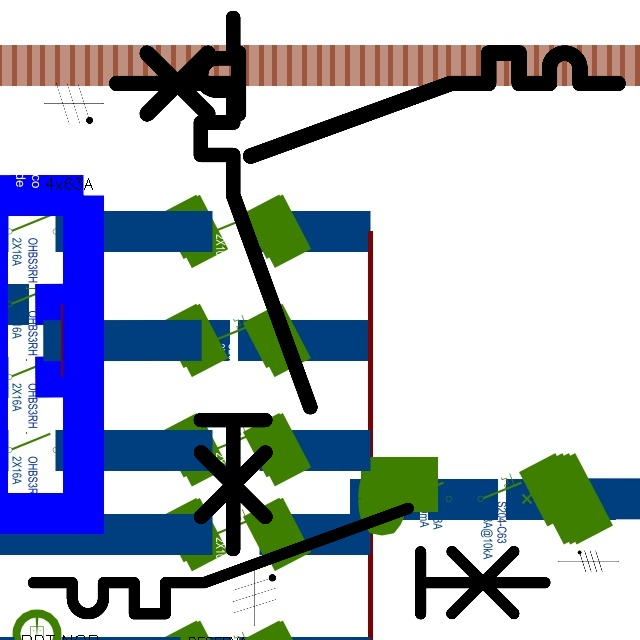interruptor_termomagnetico: (187, 4, 323, 562), (20, 495, 558, 627), (103, 40, 630, 169)
